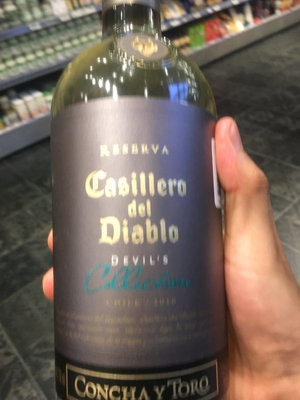casillero del diablo devils collection verde: (30, 23, 236, 400)
